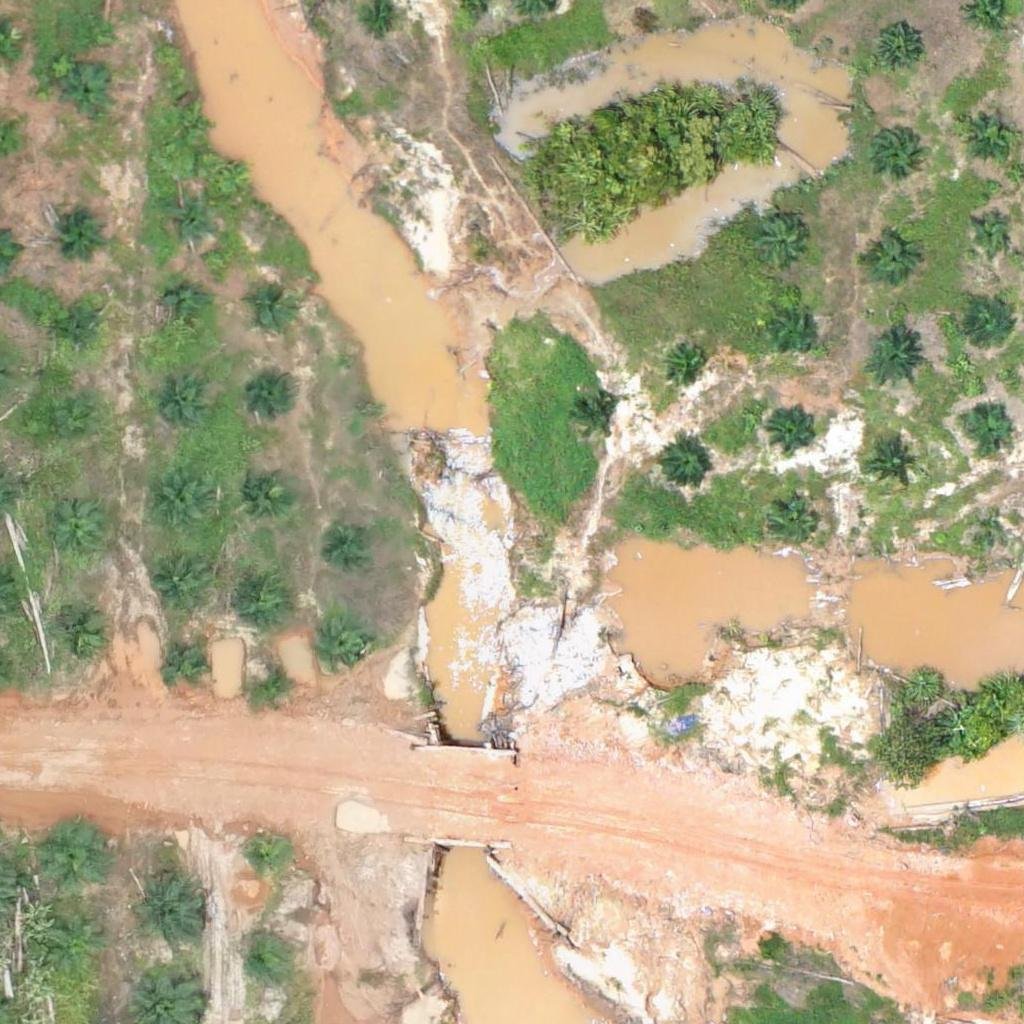Kelapa_Sawit: (130, 871, 205, 947), (34, 398, 97, 461), (149, 374, 212, 437), (147, 471, 210, 534), (43, 821, 106, 884), (234, 567, 297, 630), (148, 552, 211, 615), (863, 330, 926, 393), (49, 917, 111, 980), (44, 504, 106, 567), (49, 602, 111, 665), (234, 462, 296, 525), (958, 101, 1020, 164), (161, 637, 211, 688), (247, 658, 297, 709), (961, 397, 1011, 448), (965, 298, 1015, 349), (863, 235, 913, 286), (757, 220, 807, 271), (768, 303, 818, 354), (768, 401, 818, 452), (868, 440, 918, 491), (871, 22, 921, 73), (250, 373, 300, 423), (57, 204, 107, 254), (164, 199, 214, 249), (63, 68, 113, 118), (160, 284, 210, 334), (246, 283, 296, 333), (868, 125, 918, 175), (659, 441, 709, 491), (318, 624, 368, 674), (328, 519, 378, 569), (240, 832, 290, 882), (236, 939, 286, 989), (770, 502, 820, 552), (662, 337, 712, 387), (571, 393, 621, 443), (54, 308, 104, 358), (172, 106, 210, 144), (971, 214, 1008, 252), (987, 517, 1012, 542)
